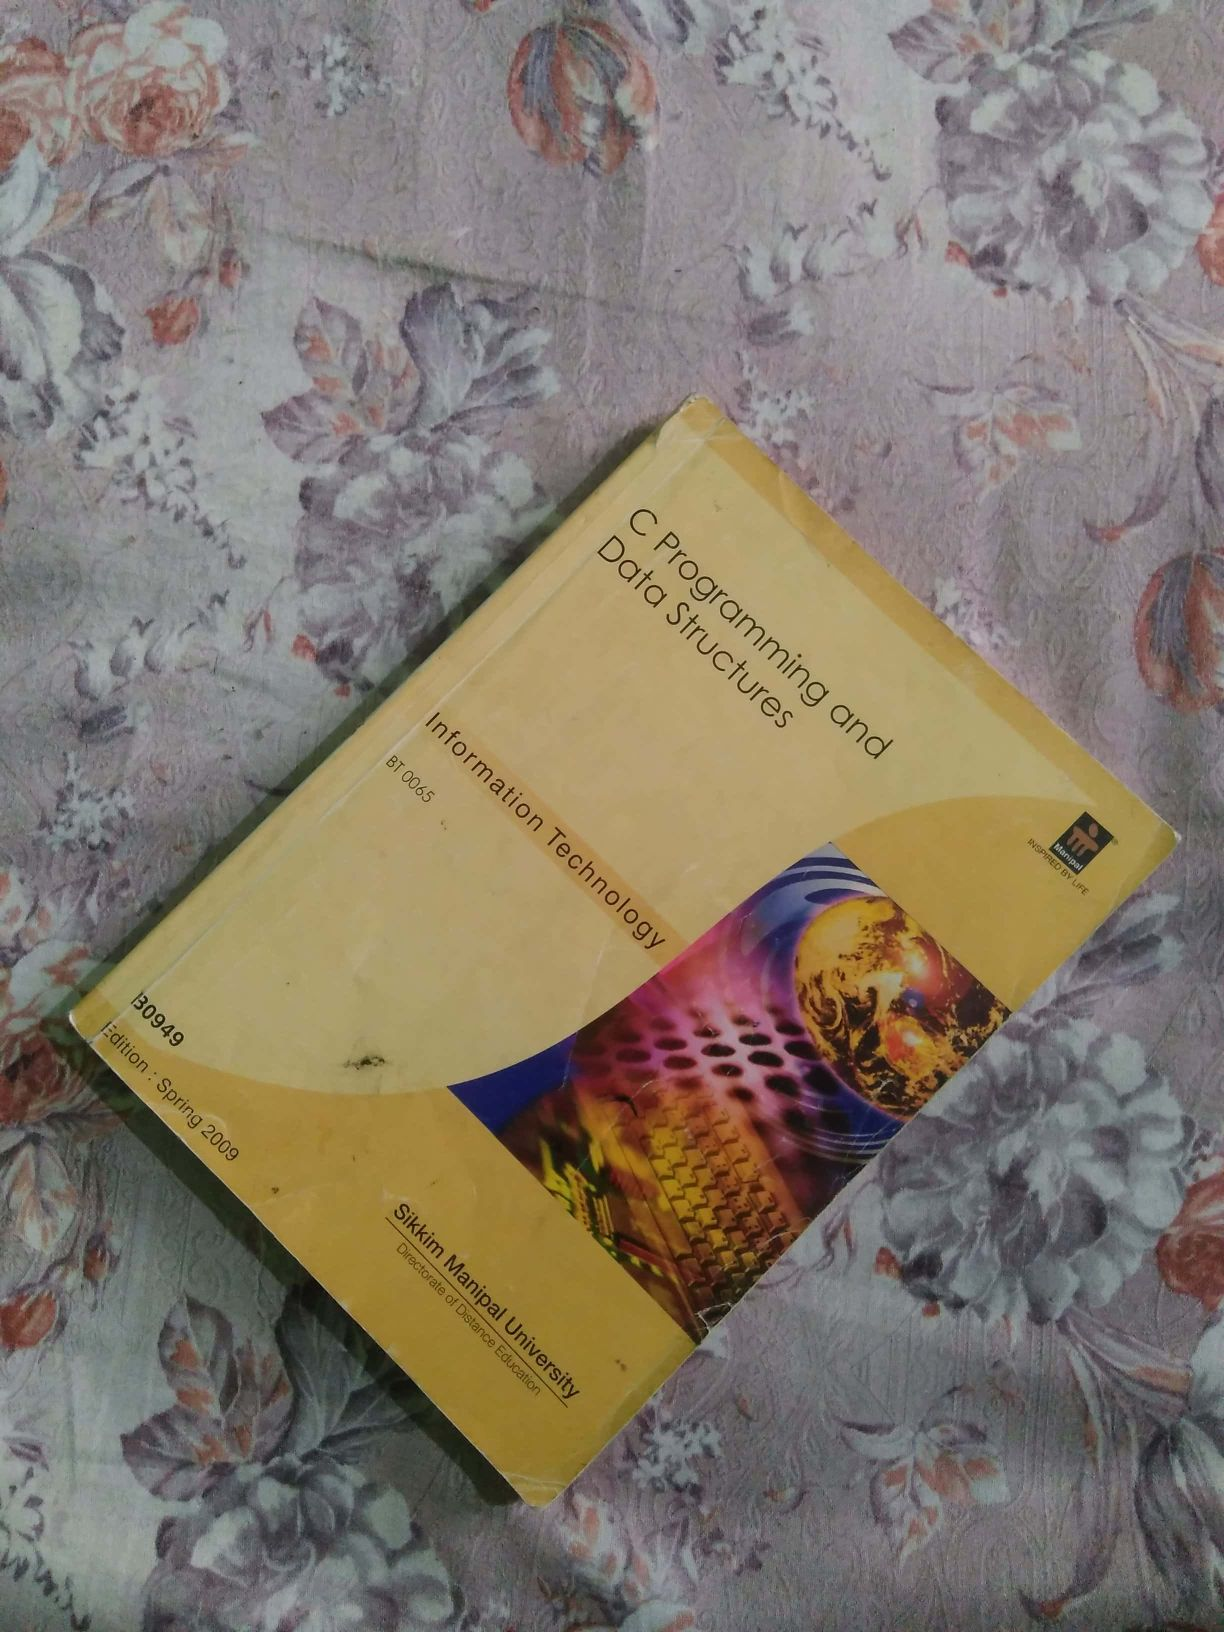clang: (120, 448, 1113, 1432)
